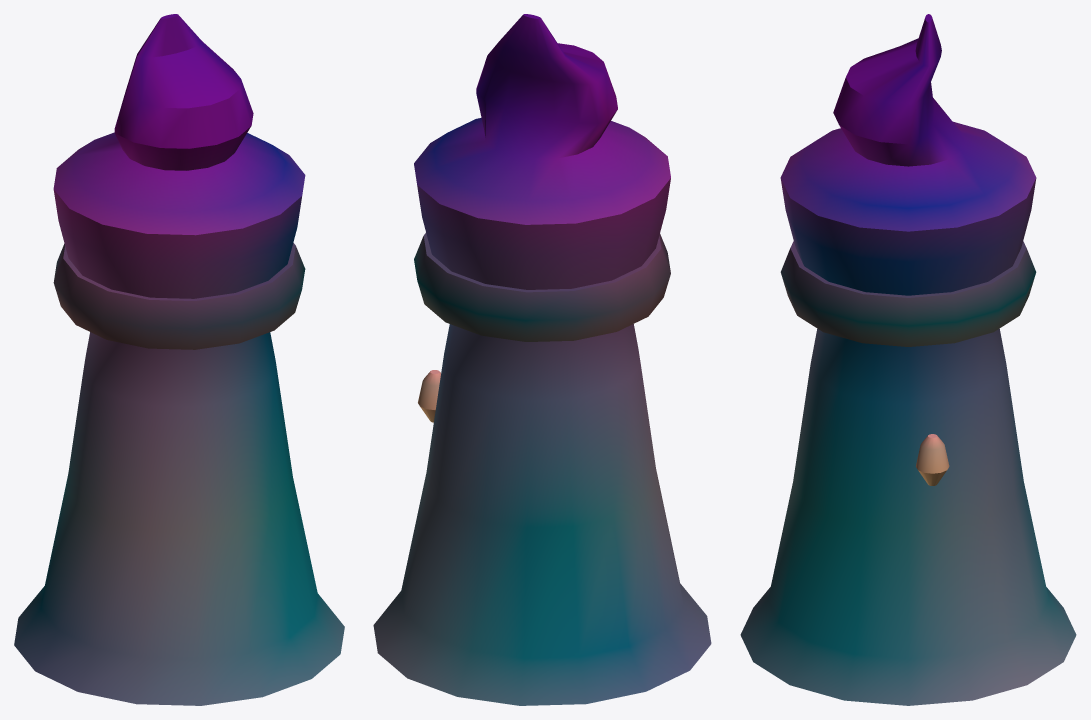
Rendered from char_bellkeeper.glb.
3 renders of one model, left to right at view 1: azimuth 30°, elevation 25°; view 2: azimuth 150°, elevation 25°; view 3: azimuth 270°, elevation 25°, orthographic. The views are drawn at different scales.
Visible parts, largest first — view 1: bellkeeper, harness; view 2: bellkeeper, harness, censer; view 3: bellkeeper, harness, censer.
Part boxes in pixels (left/top/right/bottom): bellkeeper: left=14, top=14, right=344, bottom=705; harness: left=53, top=243, right=305, bottom=349; bellkeeper: left=373, top=14, right=711, bottom=705; harness: left=414, top=233, right=670, bottom=341; censer: left=418, top=370, right=440, bottom=422; bellkeeper: left=740, top=14, right=1076, bottom=705; harness: left=780, top=241, right=1036, bottom=346; censer: left=916, top=434, right=949, bottom=485.
Size of the model in its own units: 1.39 by 2.82 by 1.39.
